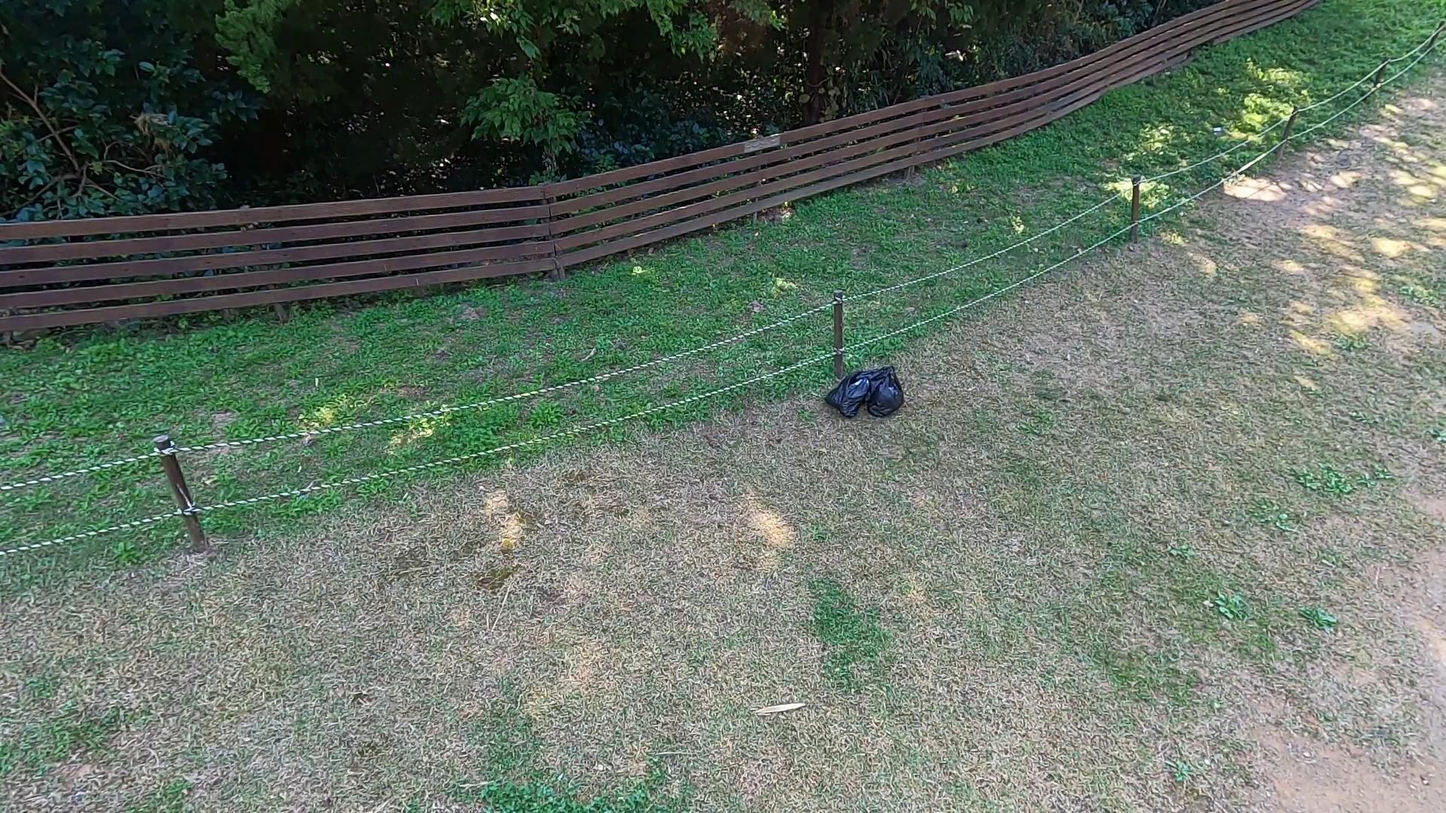trash: (824, 362, 879, 420), (872, 364, 913, 421)
